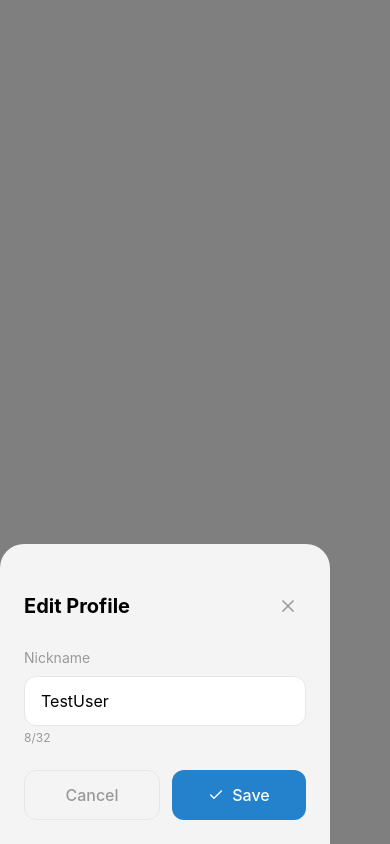
Test: ProfileEditModal › shows error message when save fails
This screenshot has width=390, height=844.
What coordinates should you click on to do the following:
click the button "Save"
I would click on:
 (239, 795)
Its box is [172,770,306,820].
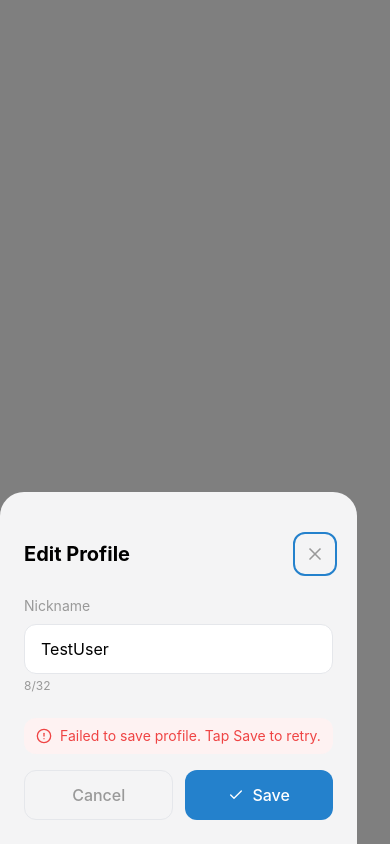
Expected: the text "Failed to save profile. Tap Save to retry." is shown, [60,726,321,746]
